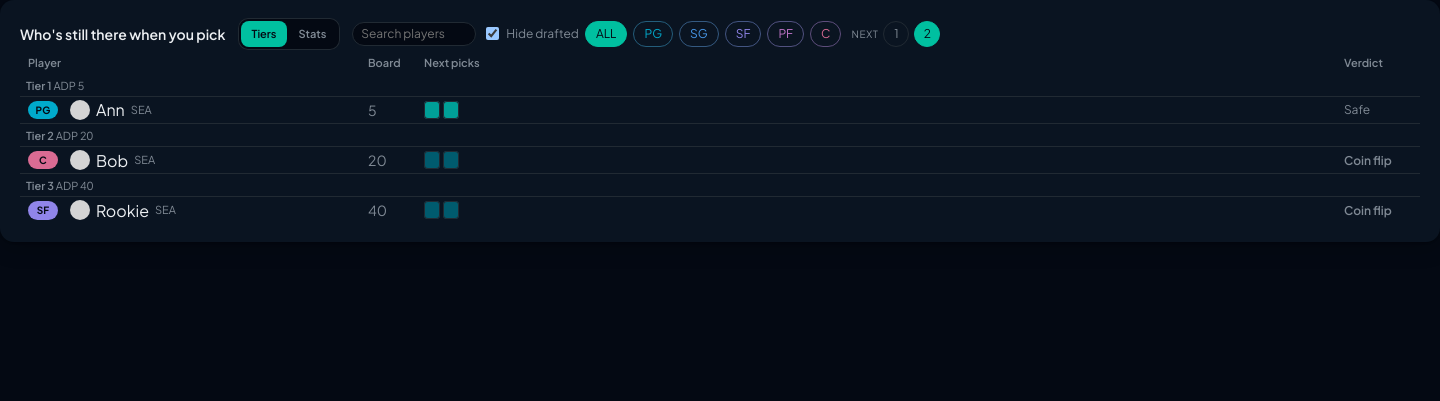
Scenario: AvailabilityPanel stats view (spec 023 US1) › warns when the league scoring changed since the shown season
Click the button "Stats". click: (312, 34)
box: [287, 21, 337, 47]
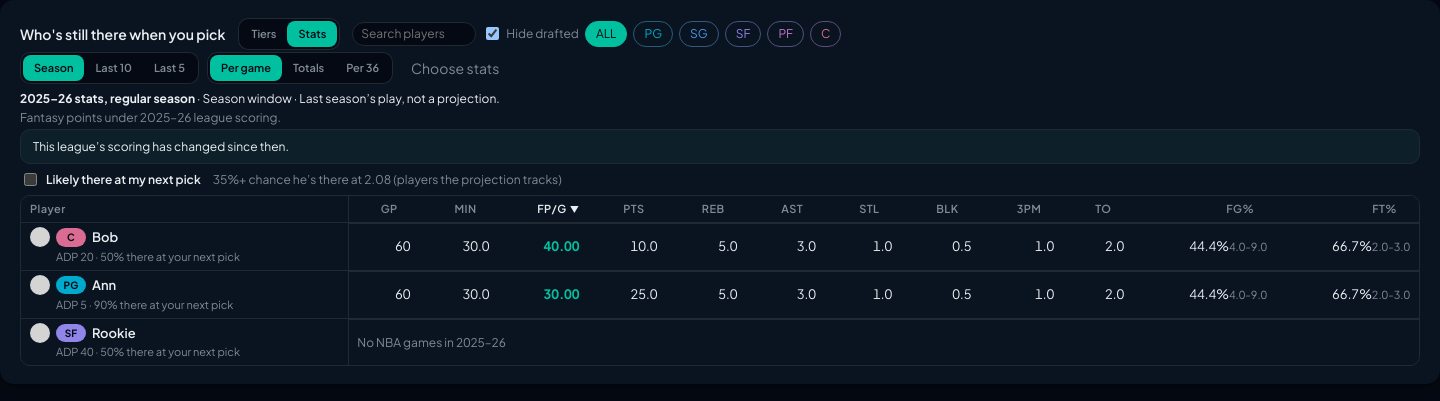
Expected: the text "2025–26 stats, regular season" is shown, [20, 91, 195, 106]
Expected: the text "This league’s scoring has changed since then." is shown, [20, 129, 1420, 164]
